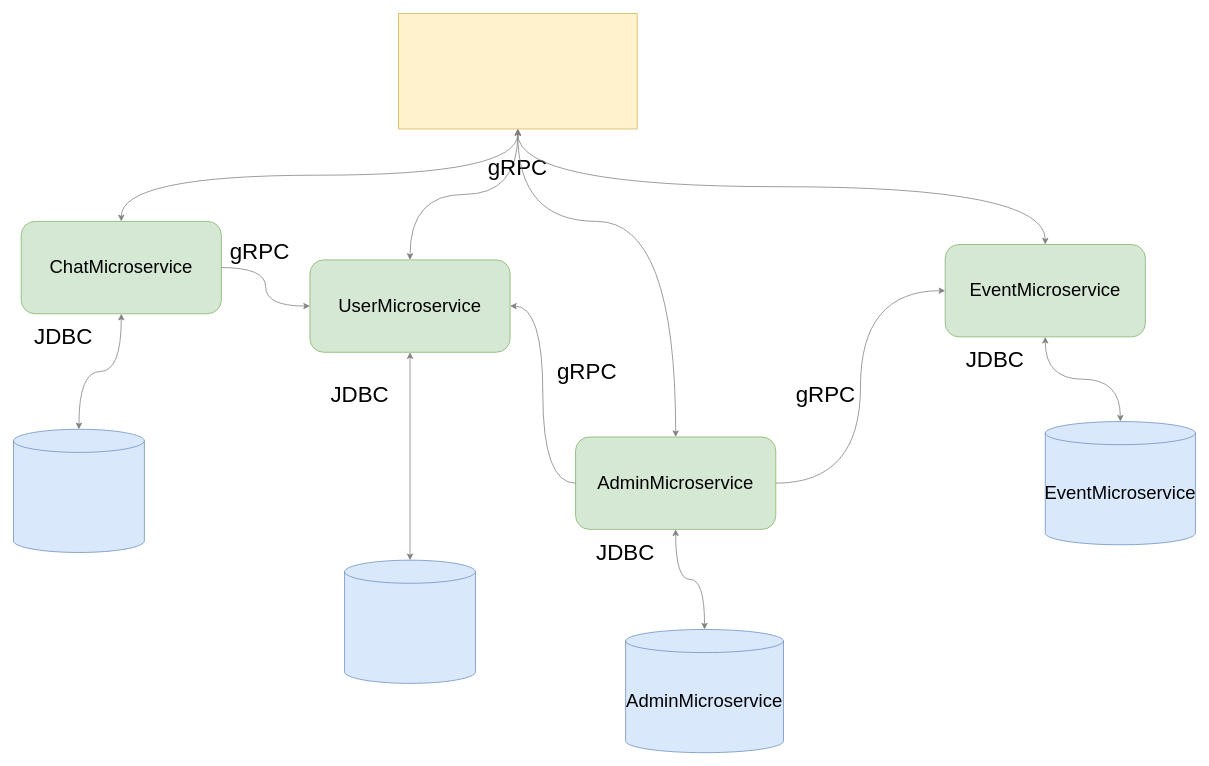
Some shapes in this 1209 by 766 pixel diagram are drawn without their labels. The box of each missing label's shape, as (x1, y1, x2, y2) in pixels:
API-GATEWAY: (398, 13, 637, 129)
ChatDatabase: (13, 429, 144, 552)
UserDatabase: (344, 559, 475, 683)
